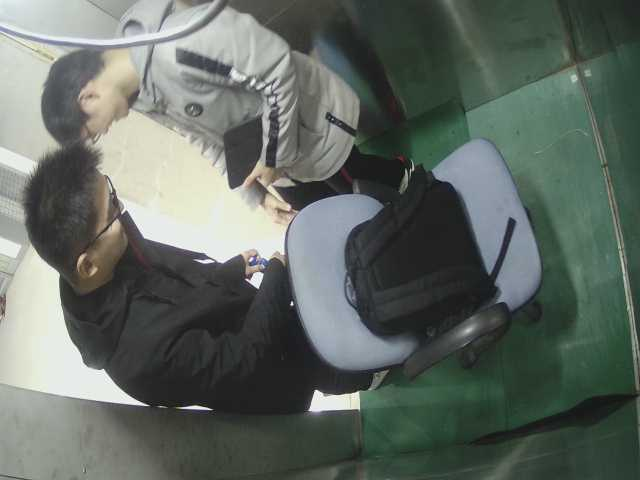bag: (345, 162, 504, 328)
chair: (279, 133, 547, 400)
person: (19, 153, 311, 407), (25, 2, 356, 180)
